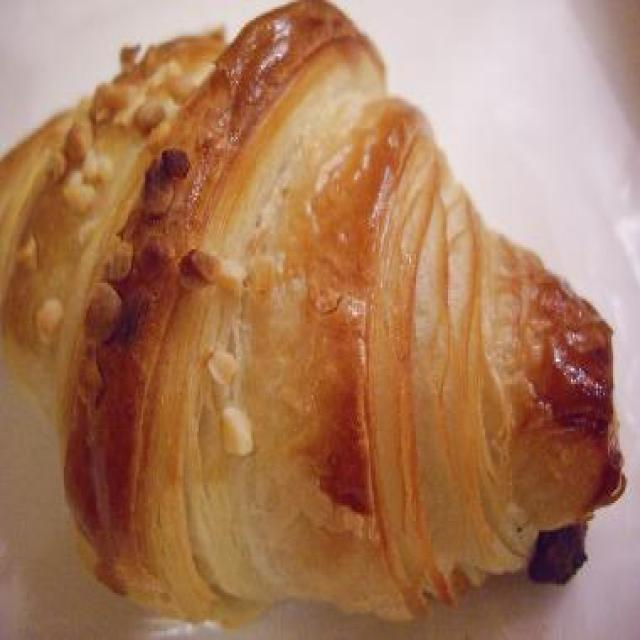Croissant: (0, 0, 622, 617)
